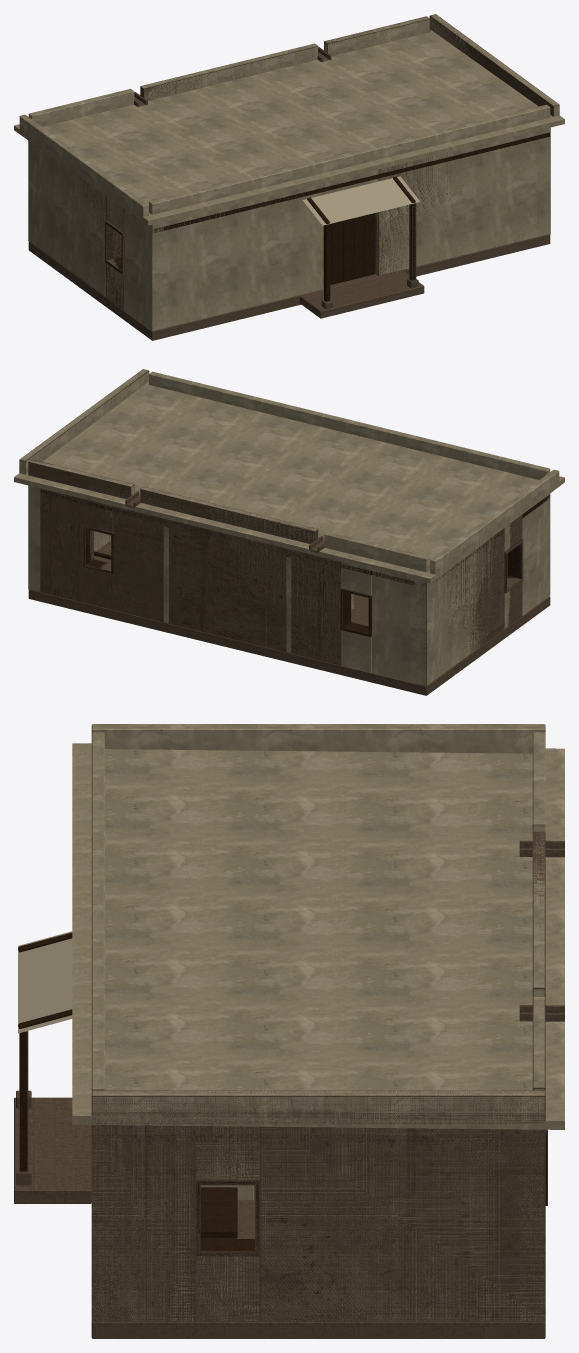
Rendered from d_halberd_house.glb.
3 views of the same model, one above another, from view 1: azimuth 30°, elevation 25°; view 2: azimuth 150°, elevation 25°; view 3: azimuth 270°, elevation 25° (orthographic). The views are drawn at different scales.
Visible parts, largest first — view 1: front wall, foundation, window jamb, entry shade, front wall-colonly.001, side parapet-colonly.001, rear parapet-colonly.001, Door plank.003, Door plank.001, Door plank.002, Door plank.004, side wall-colonly.001 (+4 smaller); view 2: front wall, rear wall-colonly.001, foundation, rear wall-colonly.002, side wall-colonly.001, window jamb, rear parapet-colonly.001, rear parapet-colonly.002, window sill wall-colonly.001, window head wall-colonly.001, window sill wall-colonly.002, side parapet-colonly.001; view 3: front wall, side wall-colonly.003, side wall-colonly.002, foundation, side parapet-colonly.001, window sill wall-colonly.003, entry shade, front wall-colonly.001, window jamb, window head wall-colonly.003, bed frame, rear parapet-colonly.001 (+1 smaller).
Boxes of the visible parts, left/top/right/bottom form: front wall: left=14, top=14, right=564, bottom=331; foundation: left=28, top=47, right=550, bottom=340; window jamb: left=105, top=132, right=549, bottom=301; entry shade: left=302, top=176, right=420, bottom=225; front wall-colonly.001: left=375, top=127, right=550, bottom=276; side parapet-colonly.001: left=429, top=14, right=559, bottom=116; rear parapet-colonly.001: left=140, top=43, right=318, bottom=100; Door plank.003: left=353, top=215, right=364, bottom=279; Door plank.001: left=332, top=221, right=342, bottom=284; Door plank.002: left=343, top=218, right=353, bottom=281; Door plank.004: left=364, top=213, right=374, bottom=276; side wall-colonly.001: left=28, top=141, right=106, bottom=297; front wall: left=14, top=369, right=564, bottom=685; rear wall-colonly.001: left=114, top=506, right=341, bottom=665; foundation: left=28, top=491, right=550, bottom=695; rear wall-colonly.002: left=28, top=487, right=83, bottom=602; side wall-colonly.001: left=414, top=528, right=504, bottom=686; window jamb: left=40, top=490, right=550, bottom=636; rear parapet-colonly.001: left=140, top=486, right=318, bottom=543; rear parapet-colonly.002: left=28, top=459, right=134, bottom=498; window sill wall-colonly.001: left=83, top=567, right=114, bottom=610; window head wall-colonly.001: left=83, top=499, right=114, bottom=532; window sill wall-colonly.002: left=505, top=582, right=522, bottom=628; side parapet-colonly.001: left=19, top=369, right=149, bottom=474; front wall: left=72, top=724, right=564, bottom=1320; side wall-colonly.003: left=260, top=1126, right=545, bottom=1321; side wall-colonly.002: left=91, top=1125, right=195, bottom=1321; foundation: left=14, top=840, right=564, bottom=1338; side parapet-colonly.001: left=91, top=1090, right=545, bottom=1124; window sill wall-colonly.003: left=195, top=1256, right=260, bottom=1321; entry shade: left=18, top=931, right=72, bottom=1033; front wall-colonly.001: left=91, top=1125, right=117, bottom=1321; window jamb: left=18, top=932, right=547, bottom=1255; window head wall-colonly.003: left=195, top=1126, right=260, bottom=1179; bed frame: left=200, top=1187, right=237, bottom=1238; rear parapet-colonly.001: left=532, top=831, right=545, bottom=996.
Size of what is drawn, in the model's own units: 13.6 by 4.28 by 8.5.
5 materials, 3 textured.
